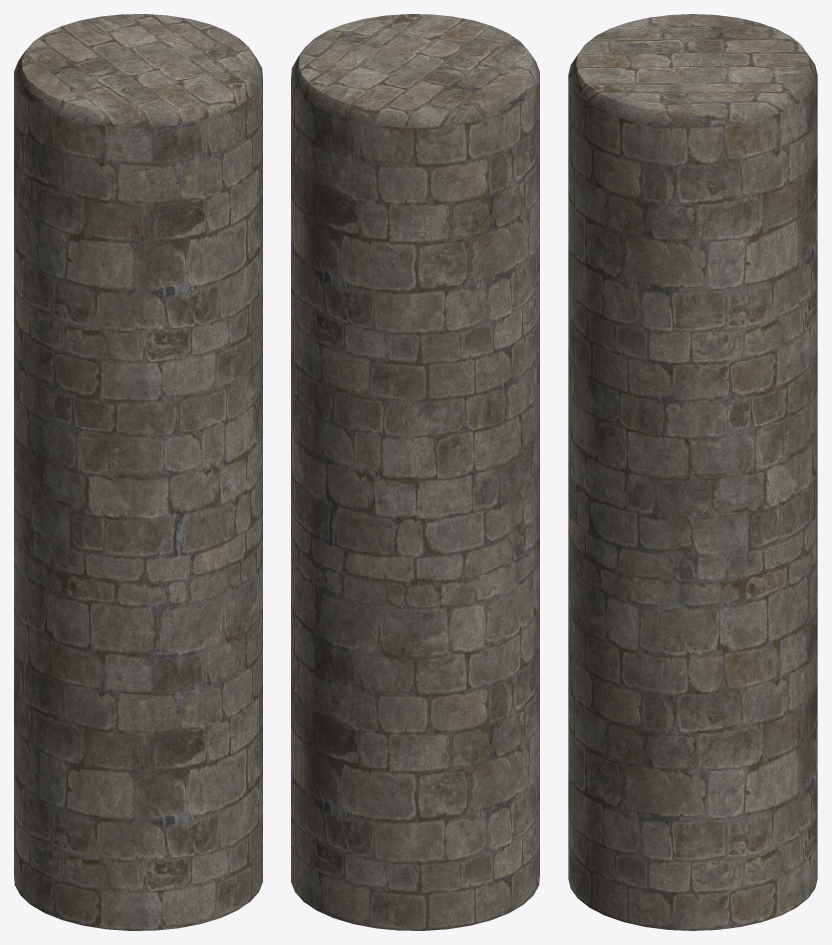
Rendered from SM_Round_Tower_Column_01.fbx.
3 views of the same model, side by side, from view 1: azimuth 30°, elevation 25°; view 2: azimuth 150°, elevation 25°; view 3: azimuth 270°, elevation 25° (orthographic).
Parts seen in each view (by area): view 1: SM_Round_Tower_Column_01_LOD0; view 2: SM_Round_Tower_Column_01_LOD0; view 3: SM_Round_Tower_Column_01_LOD0.
Boxes of the visible parts, box(x1,y1,x2,y2) form: SM_Round_Tower_Column_01_LOD0: box(14, 14, 262, 930); SM_Round_Tower_Column_01_LOD0: box(291, 14, 539, 930); SM_Round_Tower_Column_01_LOD0: box(568, 14, 817, 930).
Size of what is drawn, in the model's own units: 169 by 609 by 169.
1 material, 1 textured.
